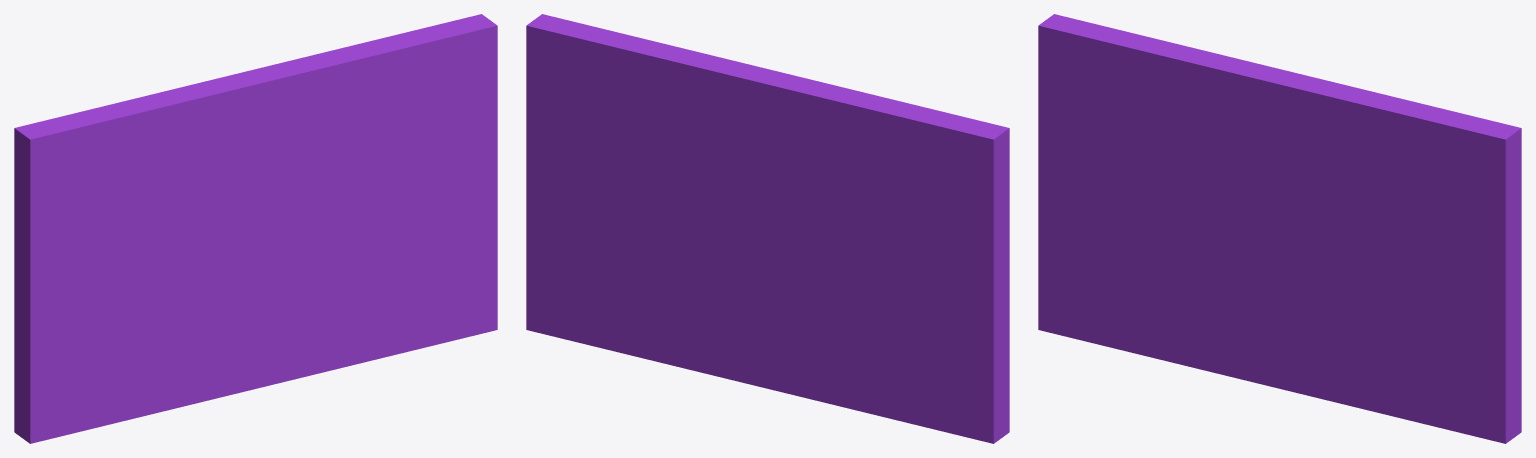
The model's file is Barrier_100_chunks.fbx.
The picture shows the model from 3 angles, left to right: view 1: azimuth 30°, elevation 25°; view 2: azimuth 150°, elevation 25°; view 3: azimuth 330°, elevation 25°; orthographic projection.
Parts seen in each view (by area): view 1: Barrier_100_3, Barrier_100_0, Barrier_100_1, Barrier_100_2; view 2: Barrier_100_3, Barrier_100_0, Barrier_100_1, Barrier_100_2; view 3: Barrier_100_3, Barrier_100_0, Barrier_100_1, Barrier_100_2.
Boxes of the visible parts, x1,y1,x2,y2 form: Barrier_100_3: [274, 14, 497, 343]; Barrier_100_0: [14, 58, 325, 308]; Barrier_100_1: [14, 253, 237, 443]; Barrier_100_2: [231, 220, 441, 393]; Barrier_100_3: [526, 14, 762, 354]; Barrier_100_0: [709, 56, 1009, 296]; Barrier_100_1: [720, 226, 1009, 443]; Barrier_100_2: [627, 282, 724, 377]; Barrier_100_3: [1282, 83, 1521, 443]; Barrier_100_0: [1038, 14, 1338, 236]; Barrier_100_1: [1038, 194, 1245, 380]; Barrier_100_2: [1240, 225, 1450, 430].
Size of the model in its own units: 462 by 288 by 27.2.
